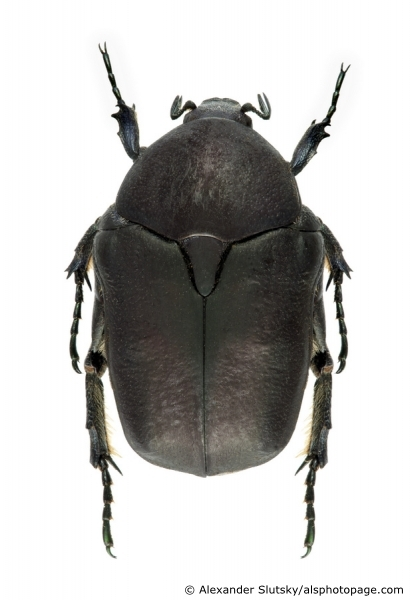Protaetia_afflicta: (60, 38, 368, 562)
